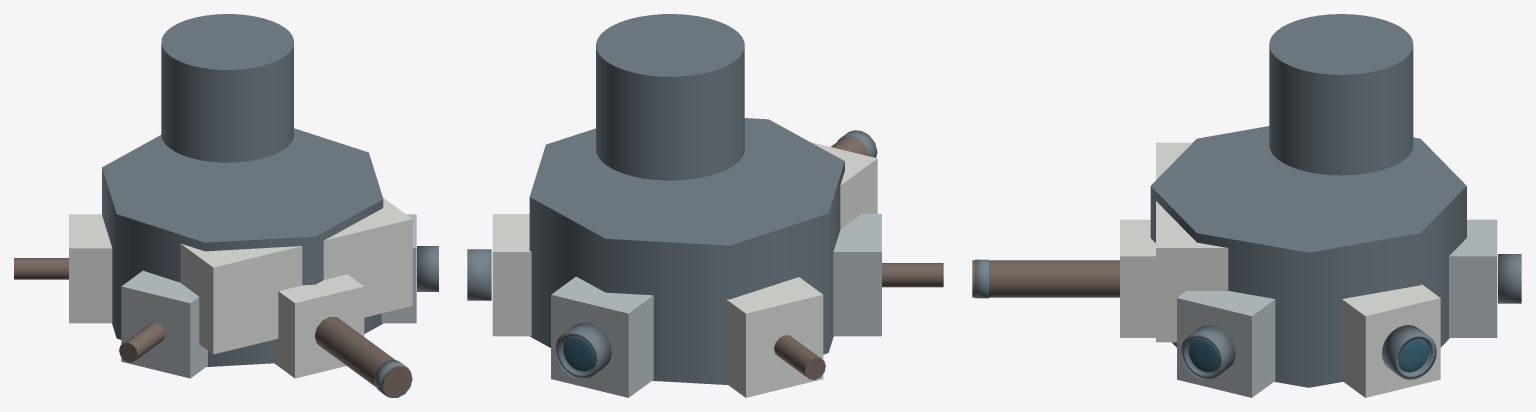
Rendered from perseverance_arm.shoulder_azimuth.shoulder_elevation.elbow.forearm.wrist.glb.
3 renders of one model, left to right at view 1: azimuth 30°, elevation 25°; view 2: azimuth 150°, elevation 25°; view 3: azimuth 270°, elevation 25°, orthographic. The views are drawn at different scales.
Parts seen in each view (by area): view 1: perseverance_turret.mesh_Machined_steel, perseverance_arm.shoulder_azimuth.shoulder_elevation.elbow.f, perseverance_turret.mesh_Pale_thermal_blanket, perseverance_turret.contact_sensor.mesh_Satin_aluminum, perseverance_turret.drill.mesh_Pale_thermal_blanket, perseverance_turret.gdrt.mesh_Pale_thermal_blanket, perseverance_turret.drill.mesh_Heat-stained_alloy, perseverance_turret.gdrt.mesh_Heat-stained_alloy, perseverance_turret.contact_sensor.mesh_Heat-stained_alloy, perseverance_turret.pixl.mesh_Satin_aluminum, perseverance_turret.pixl.aperture.mesh_Machined_steel, perseverance_turret.drill.mesh_Machined_steel; view 2: perseverance_turret.mesh_Machined_steel, perseverance_arm.shoulder_azimuth.shoulder_elevation.elbow.f, perseverance_turret.gdrt.mesh_Pale_thermal_blanket, perseverance_turret.watson.mesh_Satin_aluminum, perseverance_turret.contact_sensor.mesh_Satin_aluminum, perseverance_turret.sherloc.mesh_Pale_thermal_blanket, perseverance_turret.mesh_Pale_thermal_blanket, perseverance_turret.watson.aperture.mesh_Machined_steel, perseverance_turret.contact_sensor.mesh_Heat-stained_alloy, perseverance_turret.sherloc.aperture.mesh_Machined_steel, perseverance_turret.gdrt.mesh_Heat-stained_alloy, perseverance_turret.watson.aperture.lens.mesh_Coated_optical (+1 smaller); view 3: perseverance_turret.mesh_Machined_steel, perseverance_arm.shoulder_azimuth.shoulder_elevation.elbow.f, perseverance_turret.sherloc.mesh_Pale_thermal_blanket, perseverance_turret.pixl.mesh_Satin_aluminum, perseverance_turret.mesh_Pale_thermal_blanket, perseverance_turret.watson.mesh_Satin_aluminum, perseverance_turret.drill.mesh_Heat-stained_alloy, perseverance_turret.drill.mesh_Pale_thermal_blanket, perseverance_turret.sherloc.aperture.mesh_Machined_steel, perseverance_turret.pixl.aperture.mesh_Machined_steel, perseverance_turret.watson.aperture.mesh_Machined_steel, perseverance_turret.pixl.aperture.lens.mesh_Coated_optical_g (+2 smaller).
Boxes of the visible parts, x1,y1,x2,y2 form: perseverance_turret.mesh_Machined_steel: [102, 128, 383, 366]; perseverance_arm.shoulder_azimuth.shoulder_elevation.elbow.f: [161, 14, 293, 162]; perseverance_turret.mesh_Pale_thermal_blanket: [180, 197, 412, 354]; perseverance_turret.contact_sensor.mesh_Satin_aluminum: [121, 270, 207, 378]; perseverance_turret.drill.mesh_Pale_thermal_blanket: [272, 274, 364, 378]; perseverance_turret.gdrt.mesh_Pale_thermal_blanket: [69, 214, 112, 323]; perseverance_turret.drill.mesh_Heat-stained_alloy: [314, 317, 412, 397]; perseverance_turret.gdrt.mesh_Heat-stained_alloy: [14, 258, 68, 279]; perseverance_turret.contact_sensor.mesh_Heat-stained_alloy: [119, 322, 165, 362]; perseverance_turret.pixl.mesh_Satin_aluminum: [381, 214, 416, 323]; perseverance_turret.pixl.aperture.mesh_Machined_steel: [417, 246, 438, 291]; perseverance_turret.drill.mesh_Machined_steel: [374, 360, 409, 397]; perseverance_turret.mesh_Machined_steel: [529, 118, 844, 384]; perseverance_arm.shoulder_azimuth.shoulder_elevation.elbow.f: [596, 14, 744, 180]; perseverance_turret.gdrt.mesh_Pale_thermal_blanket: [726, 277, 823, 397]; perseverance_turret.watson.mesh_Satin_aluminum: [551, 276, 653, 397]; perseverance_turret.contact_sensor.mesh_Satin_aluminum: [833, 214, 881, 336]; perseverance_turret.sherloc.mesh_Pale_thermal_blanket: [492, 214, 531, 336]; perseverance_turret.mesh_Pale_thermal_blanket: [810, 142, 877, 229]; perseverance_turret.watson.aperture.mesh_Machined_steel: [555, 322, 611, 379]; perseverance_turret.contact_sensor.mesh_Heat-stained_alloy: [882, 263, 943, 287]; perseverance_turret.sherloc.aperture.mesh_Machined_steel: [467, 249, 491, 300]; perseverance_turret.gdrt.mesh_Heat-stained_alloy: [774, 335, 825, 379]; perseverance_turret.watson.aperture.lens.mesh_Coated_optical: [563, 337, 594, 371]; perseverance_turret.mesh_Machined_steel: [1150, 126, 1466, 387]; perseverance_arm.shoulder_azimuth.shoulder_elevation.elbow.f: [1269, 14, 1413, 175]; perseverance_turret.sherloc.mesh_Pale_thermal_blanket: [1342, 284, 1440, 397]; perseverance_turret.pixl.mesh_Satin_aluminum: [1177, 291, 1275, 397]; perseverance_turret.mesh_Pale_thermal_blanket: [1156, 142, 1228, 342]; perseverance_turret.watson.mesh_Satin_aluminum: [1449, 219, 1497, 337]; perseverance_turret.drill.mesh_Heat-stained_alloy: [972, 260, 1119, 297]; perseverance_turret.drill.mesh_Pale_thermal_blanket: [1120, 219, 1155, 337]; perseverance_turret.sherloc.aperture.mesh_Machined_steel: [1381, 325, 1436, 379]; perseverance_turret.pixl.aperture.mesh_Machined_steel: [1180, 325, 1235, 379]; perseverance_turret.watson.aperture.mesh_Machined_steel: [1498, 254, 1521, 303]; perseverance_turret.pixl.aperture.lens.mesh_Coated_optical_g: [1188, 339, 1218, 372].
Bounding box in the file's own units: 0.6024 × 0.44 × 0.792.
